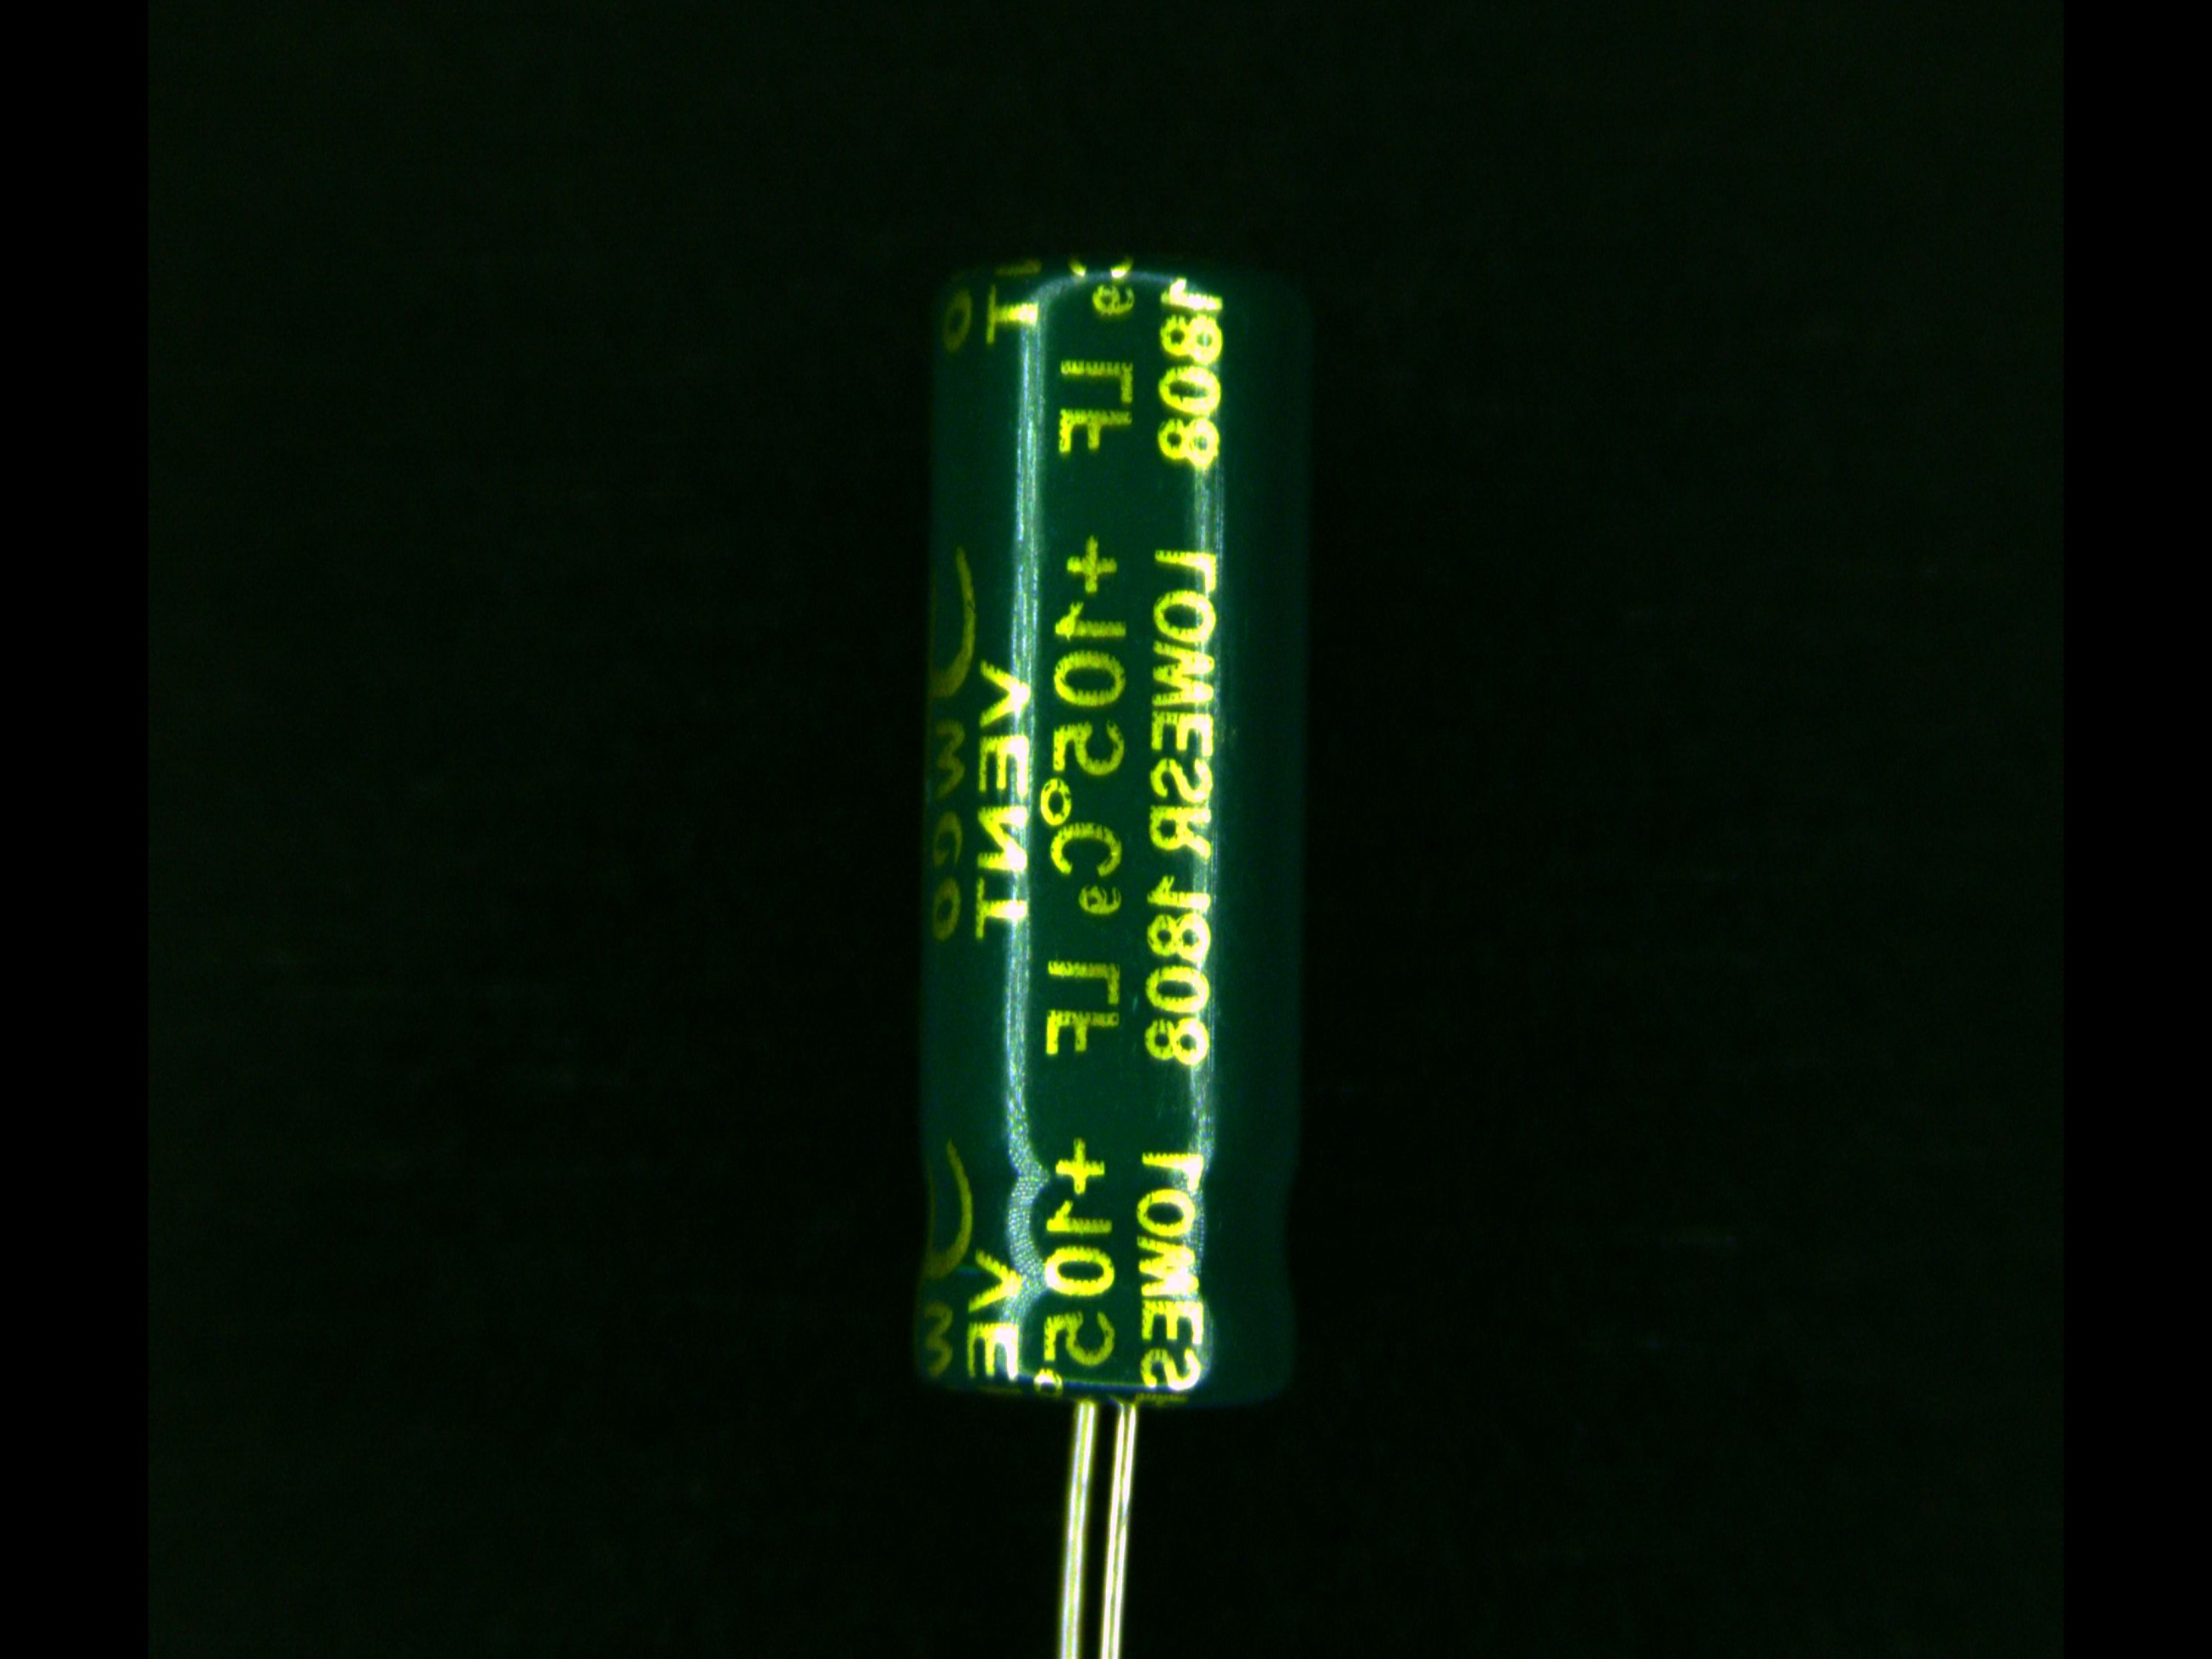c1: (902, 263, 1313, 1518)
